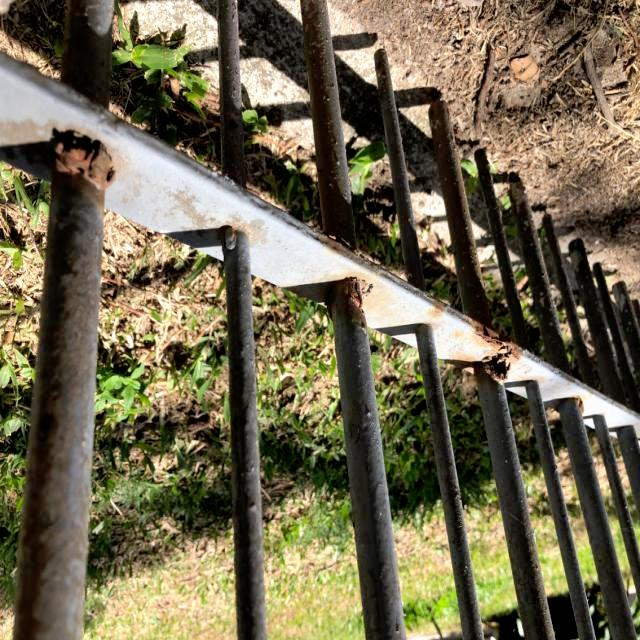Corrosion: (42, 130, 119, 203), (468, 315, 528, 391), (335, 277, 379, 329)
